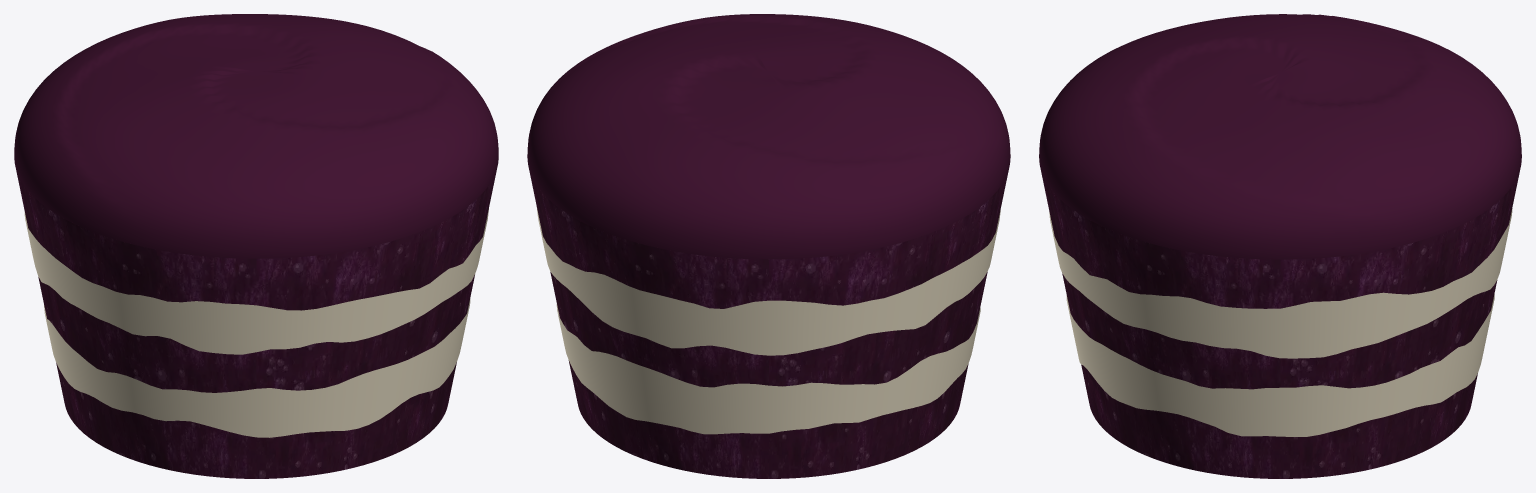
The model's file is base-acai-pote-200.glb.
3 views of the same model, side by side, from view 1: azimuth 30°, elevation 25°; view 2: azimuth 150°, elevation 25°; view 3: azimuth 270°, elevation 25° (orthographic).
Visible parts, largest first — view 1: base-acai-pote-200, base-acai-pote-200-camada-2, base-acai-pote-200-camada-1; view 2: base-acai-pote-200, base-acai-pote-200-camada-2, base-acai-pote-200-camada-1; view 3: base-acai-pote-200, base-acai-pote-200-camada-2, base-acai-pote-200-camada-1.
Part boxes in pixels (left/top/right/bottom): base-acai-pote-200: left=14, top=14, right=498, bottom=478; base-acai-pote-200-camada-2: left=24, top=209, right=488, bottom=354; base-acai-pote-200-camada-1: left=44, top=299, right=470, bottom=437; base-acai-pote-200: left=527, top=14, right=1010, bottom=478; base-acai-pote-200-camada-2: left=536, top=207, right=1000, bottom=355; base-acai-pote-200-camada-1: left=556, top=304, right=980, bottom=434; base-acai-pote-200: left=1039, top=14, right=1521, bottom=478; base-acai-pote-200-camada-2: left=1049, top=208, right=1512, bottom=358; base-acai-pote-200-camada-1: left=1066, top=294, right=1494, bottom=436.
Bounding box in the file's own units: 0.0806 × 0.0606 × 0.0806.
3 materials, 1 textured.
